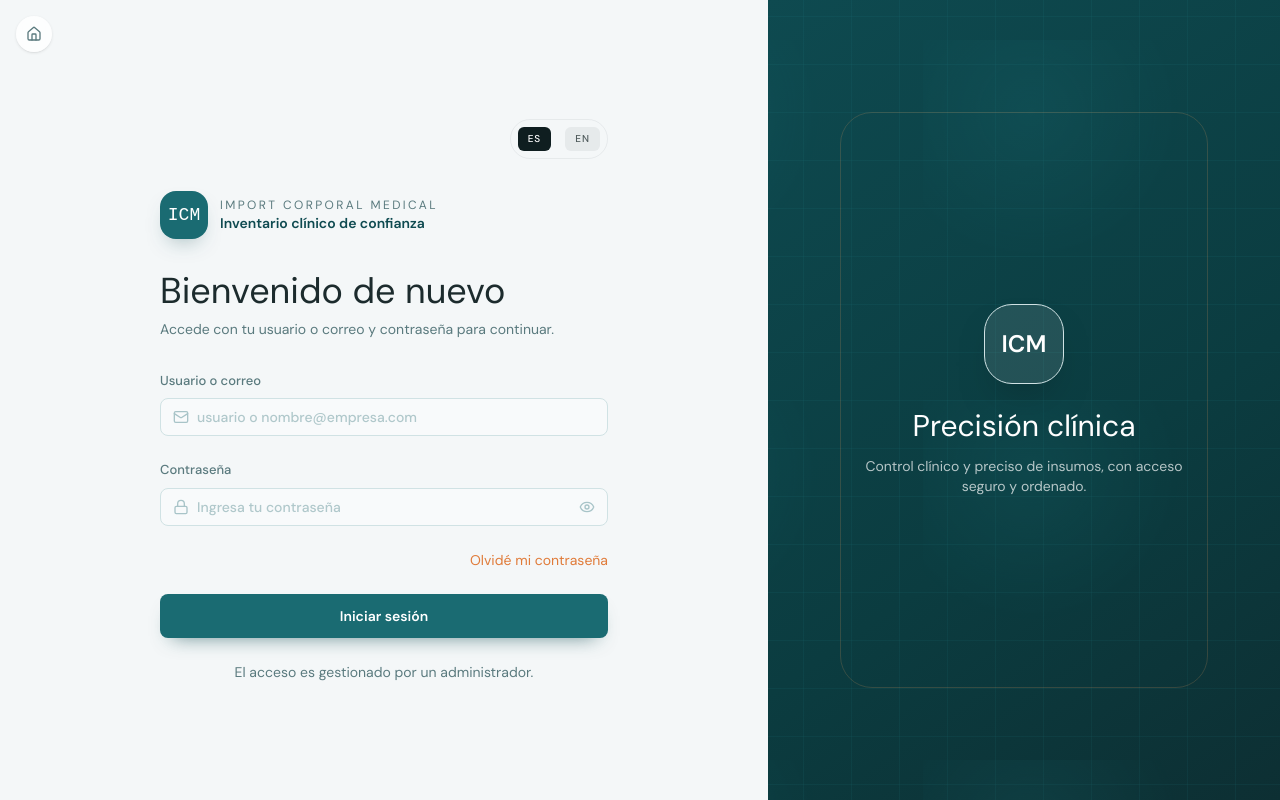
LoginPage — integración › Login fallido › debería mostrar mensaje de error cuando las credenciales son incorrectas
The width and height of the screenshot is (1280, 800).
In the field labelled "Usuario o correo": (396, 417) x1=197 y1=407 x2=595 y2=427, type "admin"
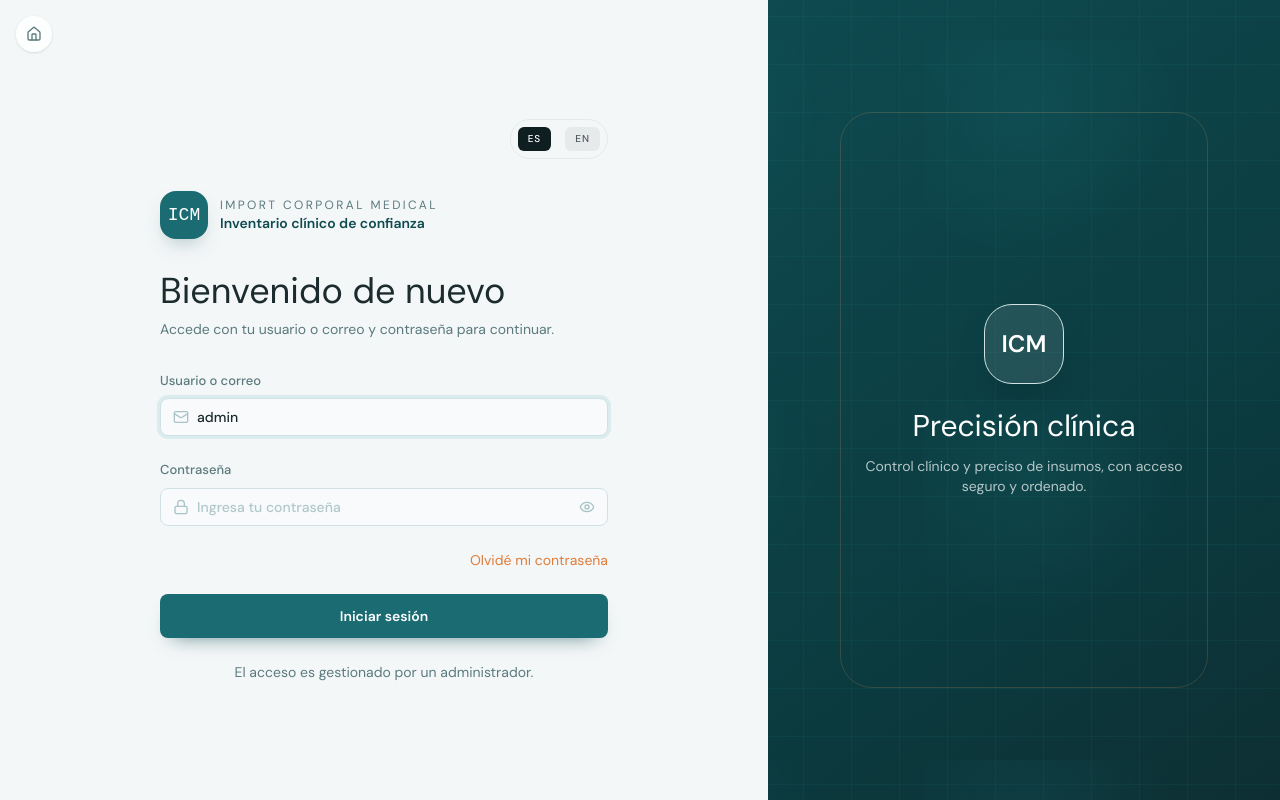
In the password field labelled "Contraseña": (384, 506) x1=197 y1=496 x2=571 y2=516, type "wrongpass"
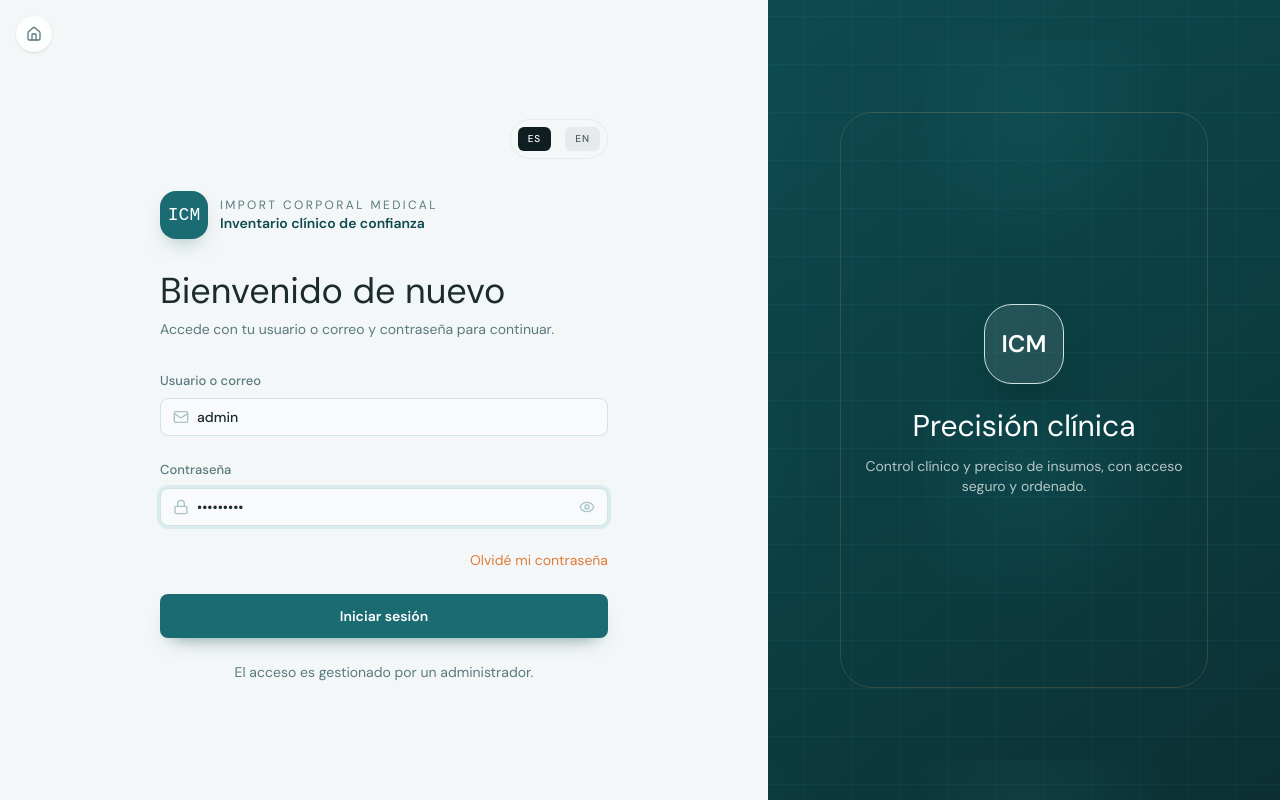
Click the button "Iniciar sesión": (384, 616) x1=160 y1=594 x2=608 y2=638
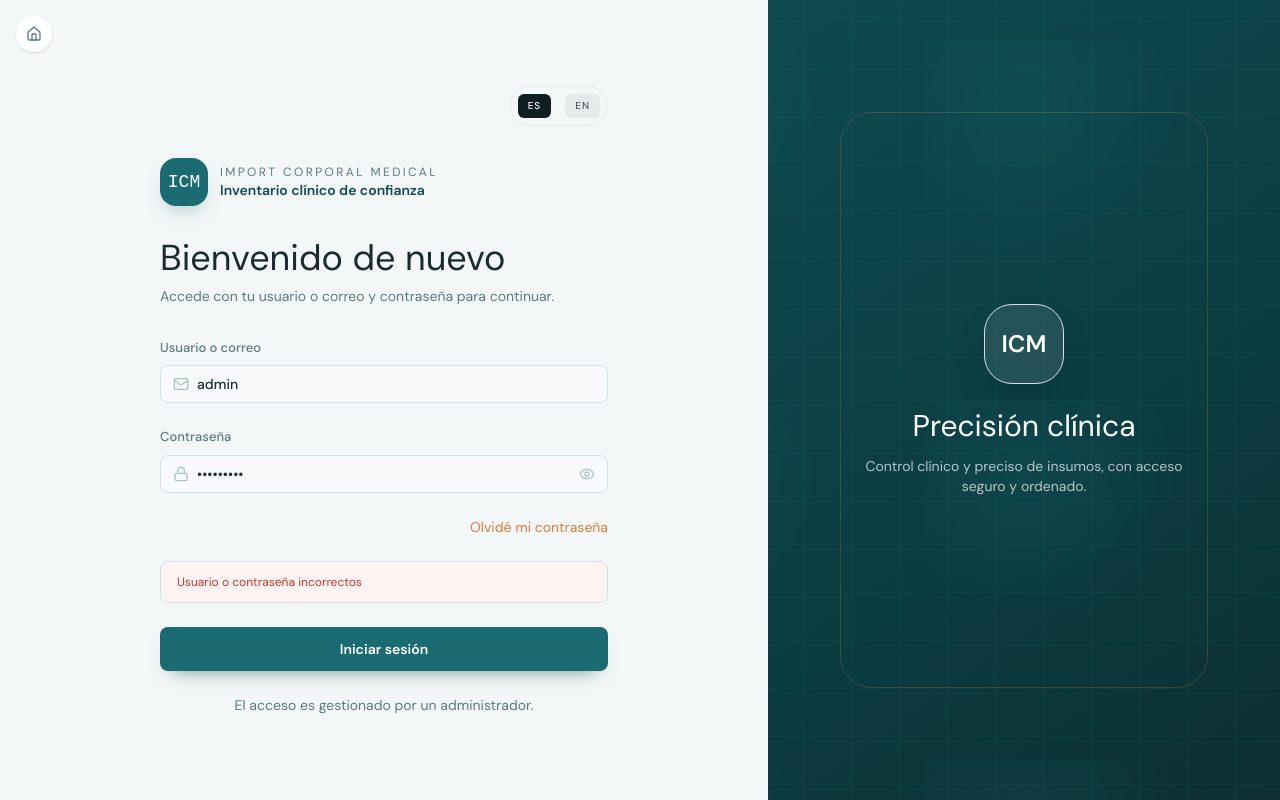
Now the text "Usuario o contraseña incorrectos" is shown, box x1=160 y1=560 x2=608 y2=602
